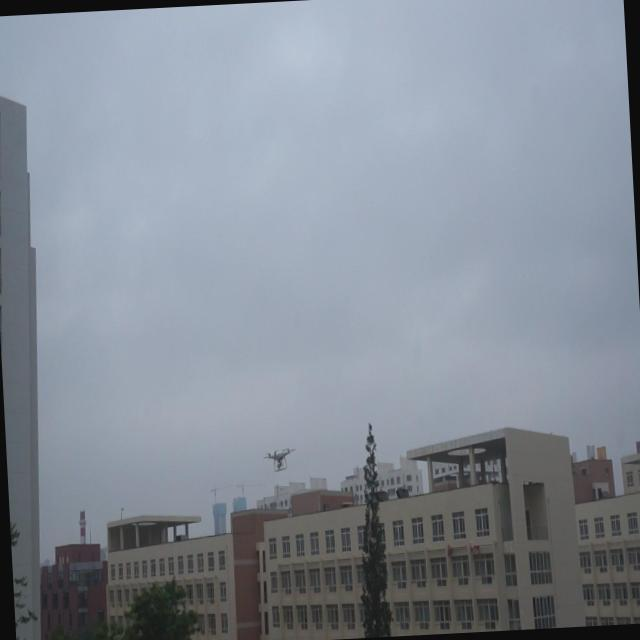drone: (260, 443, 298, 480)
